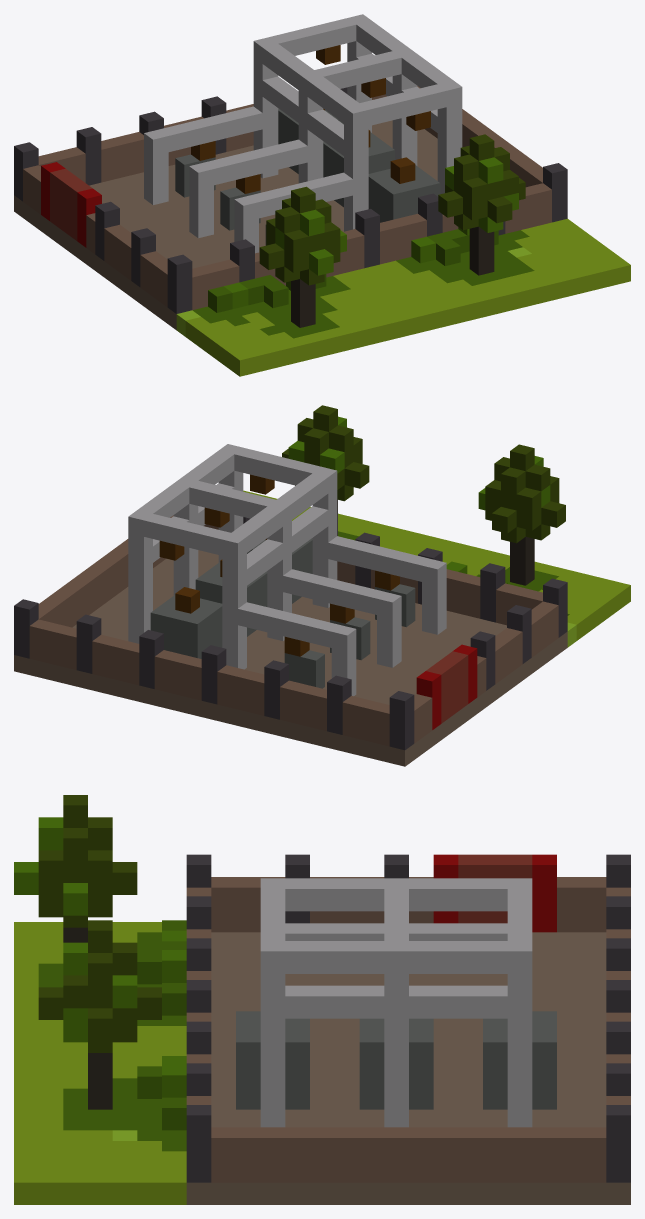
The model's file is build11.obj.
3 renders of one model, top to bottom at view 1: azimuth 30°, elevation 25°; view 2: azimuth 150°, elevation 25°; view 3: azimuth 270°, elevation 25°, orthographic. The views are drawn at different scales.
Bounding box in the file's own units: 25 × 9 × 25.
